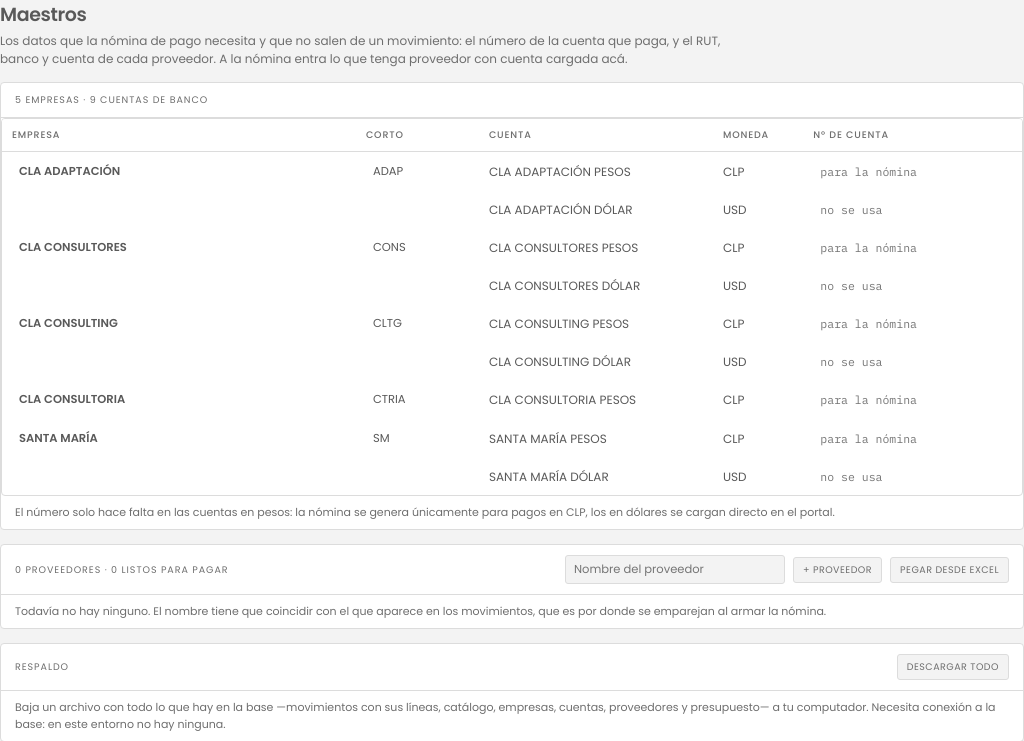
Test: Maestros › avisa del RUT inválido, porque el portal rechaza la nómina entera
Type "Proveedor con dedo malo" into the field named "Nombre del proveedor nuevo".
click(675, 570); type("Proveedor con dedo malo")  # box [565,555,785,584]
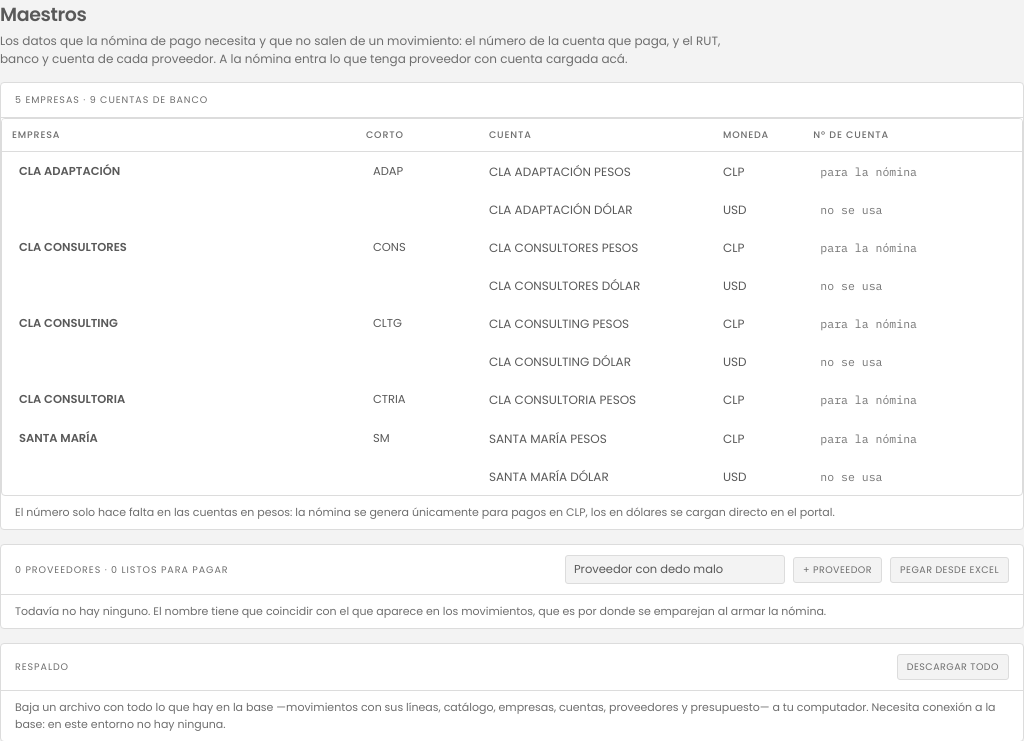
Click the button "+ proveedor".
click(837, 570)  # box [793,556,882,582]
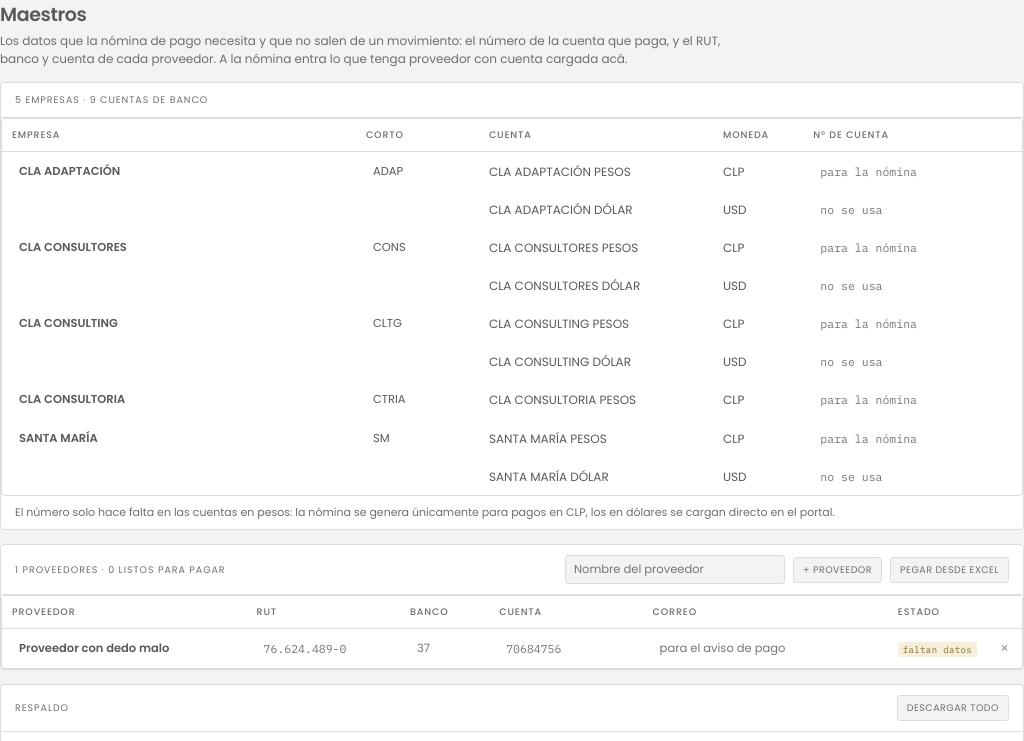
Type "76.624.489-1" into the field named "RUT de Proveedor con dedo malo".
click(323, 648); type("76.624.489-1")  # box [257,636,390,661]
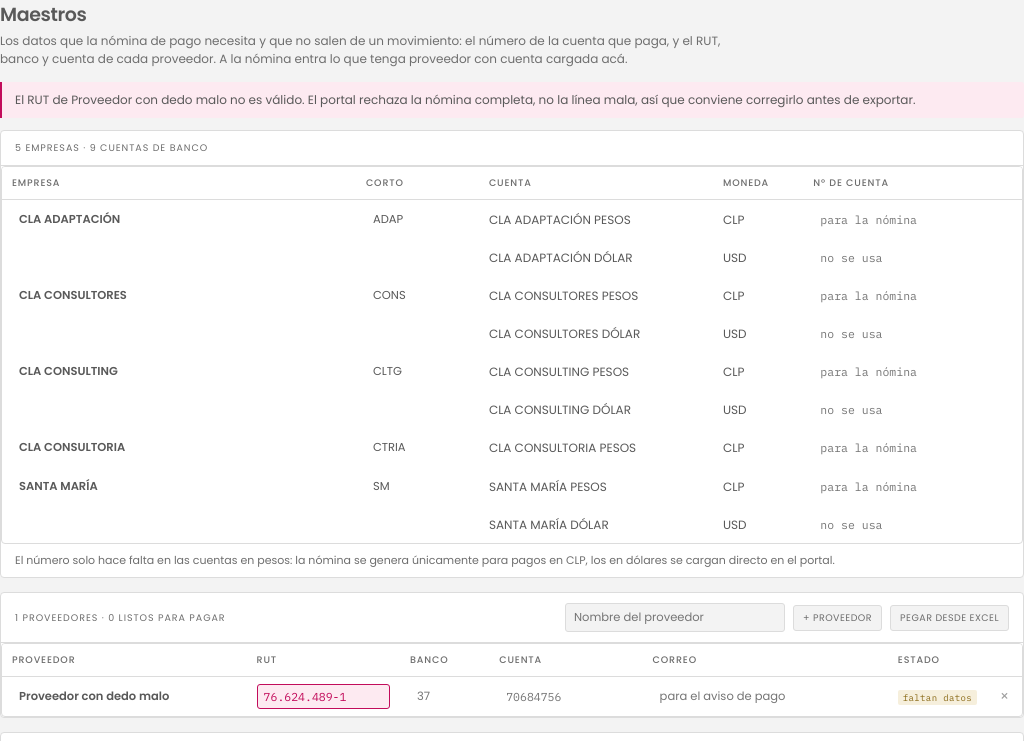
Now the text "no es válido" is shown, box [15,91,305,108]
Now the text "rechaza la nómina completa" is shown, box [308,91,916,108]
